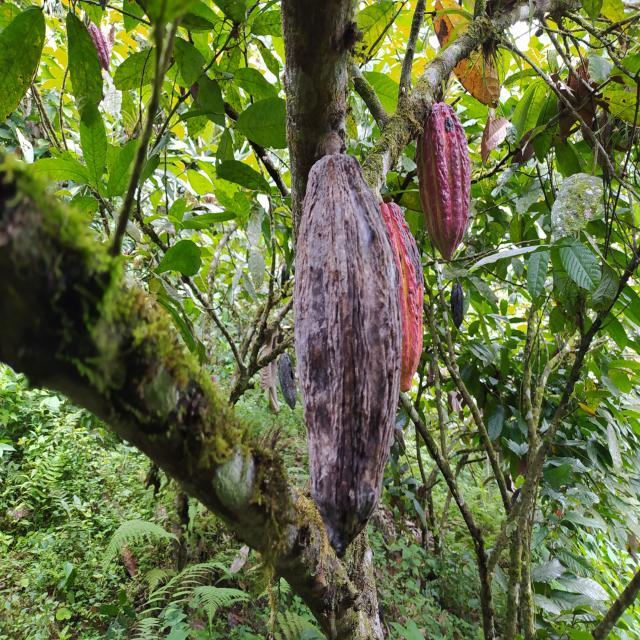Fitoftora: (293, 144, 401, 563), (376, 202, 424, 392), (416, 98, 470, 266), (279, 352, 297, 409), (451, 280, 465, 328)
